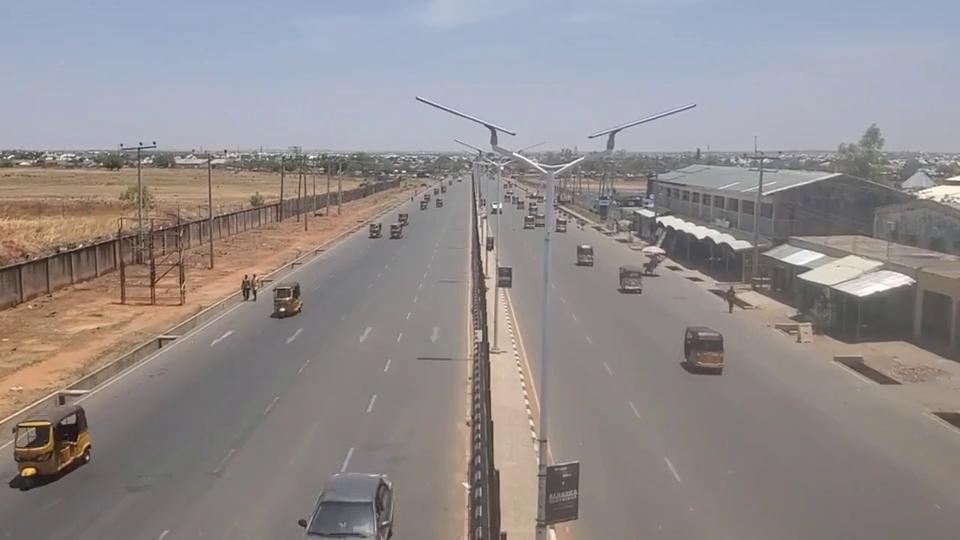car: (298, 471, 398, 540)
keke: (11, 396, 91, 481), (683, 326, 725, 373), (272, 281, 303, 317), (619, 266, 644, 294), (576, 243, 595, 265), (390, 222, 404, 239), (368, 222, 382, 238)
